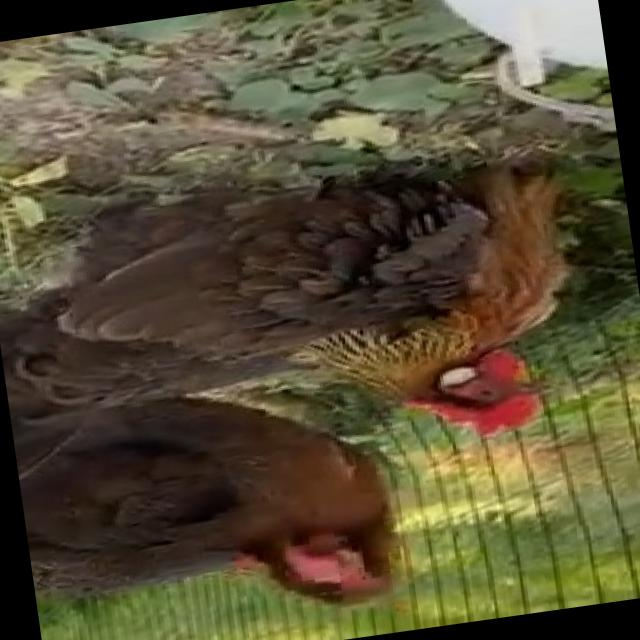self preening: (8, 349, 408, 640)
